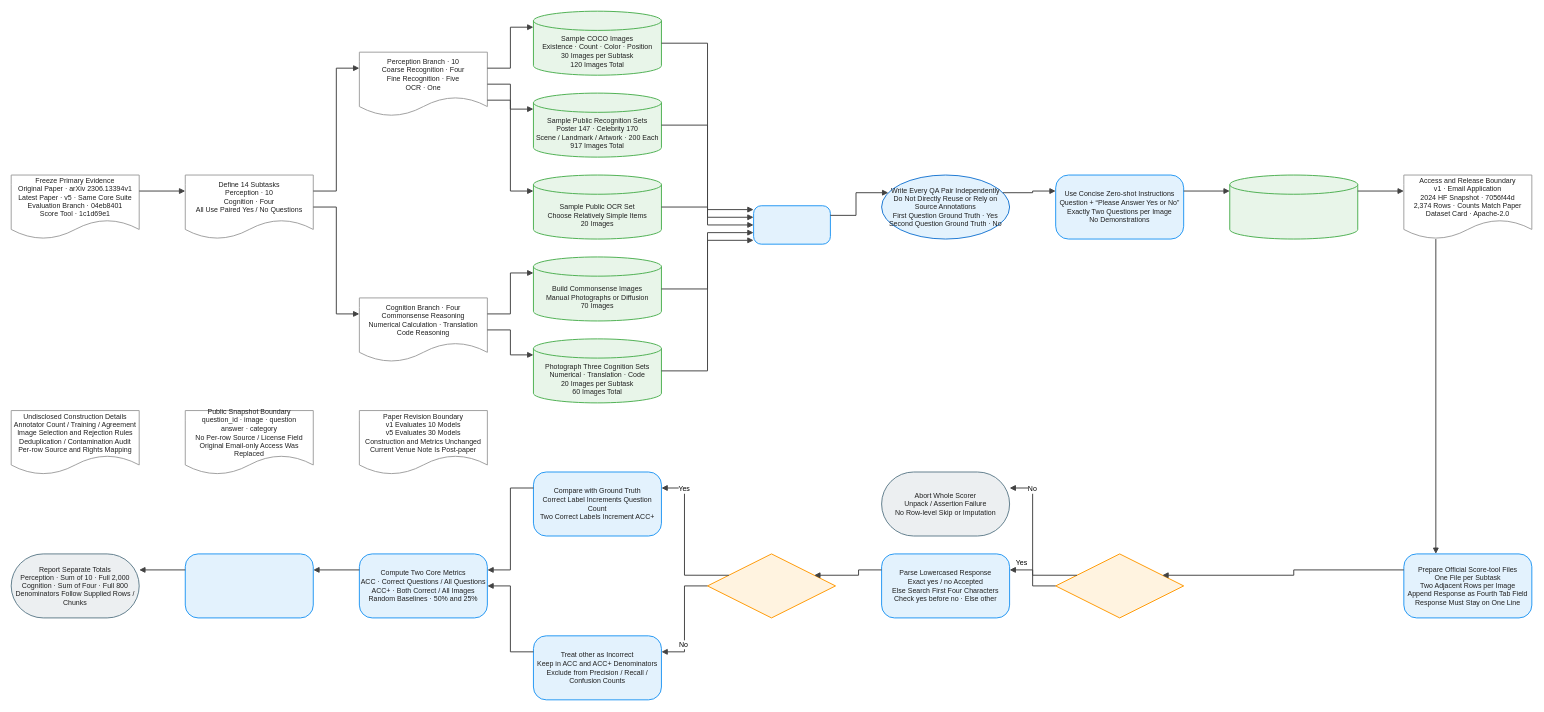
Image size: 1544x712. Some labels were removed from this diagram. Each missing label, with the centre of its shape:
Assemble MME 1,187 Images 2,374 Instruction-answer Pairs 14 Per-subtask Files: the point at 1293,206
Merge Five Image Sources Preserve Subtask Provenance: the point at 792,224
Parser Yields yes or no?: the point at 771,585
Score Each Subtask 100 × (ACC + ACC+) Full Score · 200: the point at 249,585
Valid Four-field, Two-row Chunks?: the point at 1119,585
